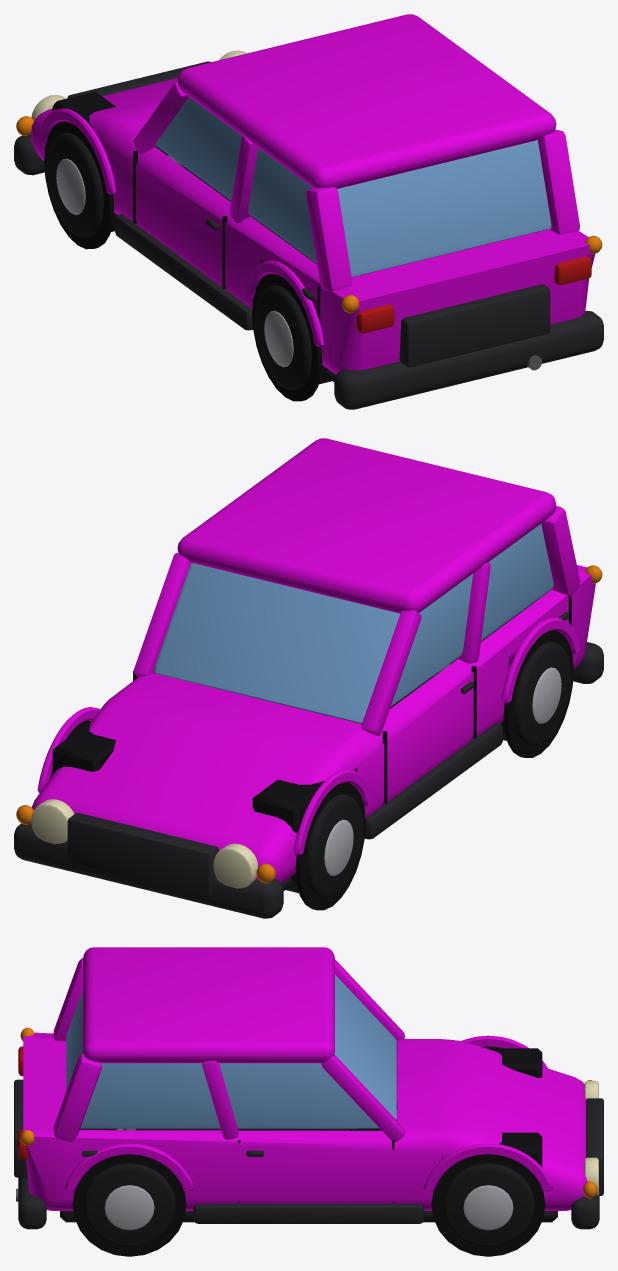
Rendered from HonkerPip_Player.fbx.
The picture shows the model from 3 angles, top to bottom: view 1: azimuth 30°, elevation 25°; view 2: azimuth 150°, elevation 25°; view 3: azimuth 270°, elevation 25°; orthographic projection. The views are drawn at different scales.
Visible parts, largest first — view 1: HonkerPip_Player; view 2: HonkerPip_Player; view 3: HonkerPip_Player.
Boxes of the visible parts, box(x1,y1,x2,y2) form: HonkerPip_Player: box(14, 14, 603, 409); HonkerPip_Player: box(14, 438, 603, 918); HonkerPip_Player: box(14, 947, 603, 1256).
Bounding box in the file's own units: 1.84 × 1.57 × 4.03.
